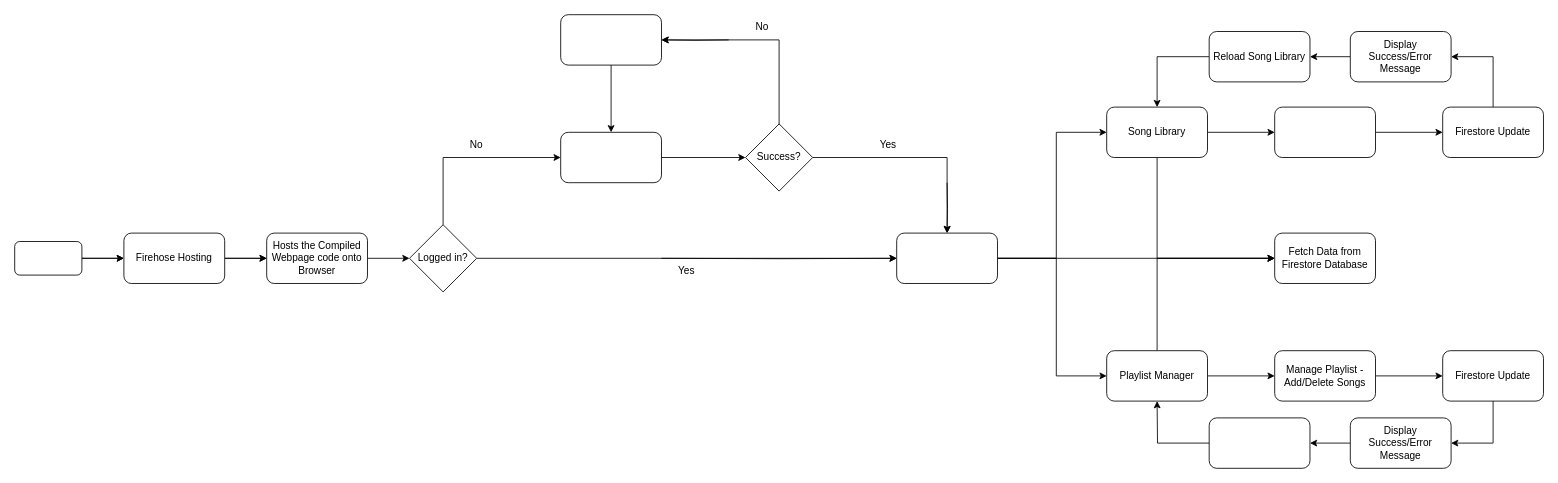
Image size: 1558x483. Some labels were removed from this diagram. The shapes that lost their labels are listed below. From the top down, each one's centre as x and y in pixels, then its label:
the point at 611,39: Show Error
the point at 1325,132: Manage Songs - Edit/Add/Delete
the point at 611,157: Firebase Authentication
the point at 48,258: User Opens Application
the point at 947,258: Load Dashboard
the point at 1259,442: Reload Playlist Manager
